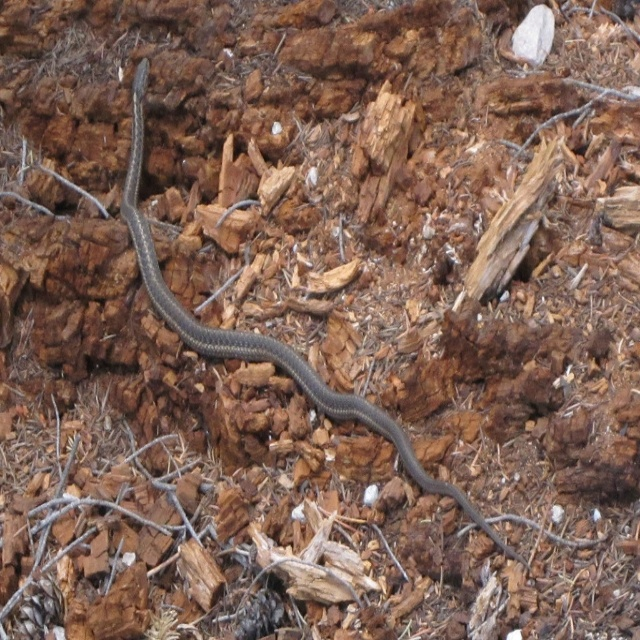Snake: (118, 58, 534, 582)
